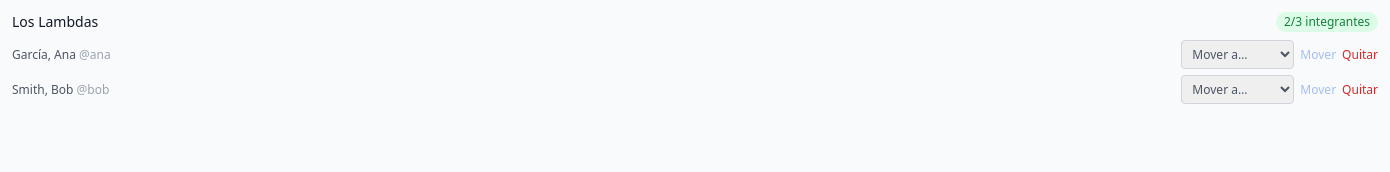
GrupoCard › mover integrante › muestra el error de la API si falla mover
This screenshot has width=1390, height=172.
Select "Los Monoides" in the dropdown named "Mover a @ana a…" at (1238, 54), box 1181,40 -> 1294,69
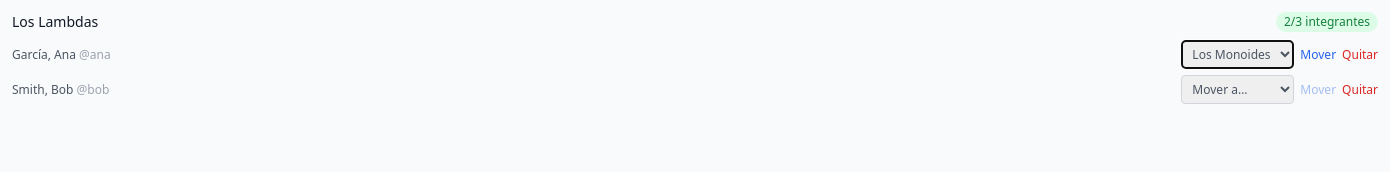
Click the button "Mover" in the row of "García, Ana".
click(1318, 54)  # box 1300,46 -> 1336,62
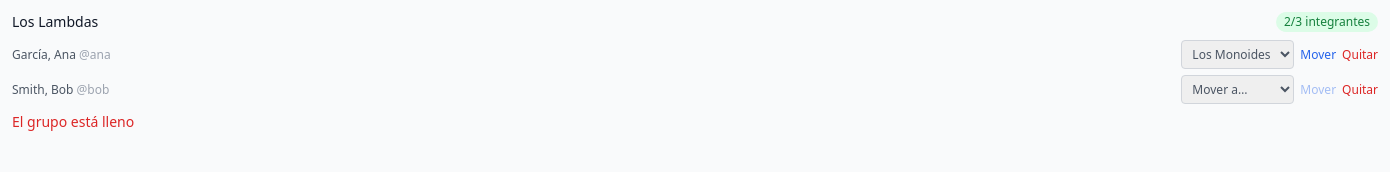
Expected: the text "El grupo está lleno" is shown, 12,112 -> 134,131
